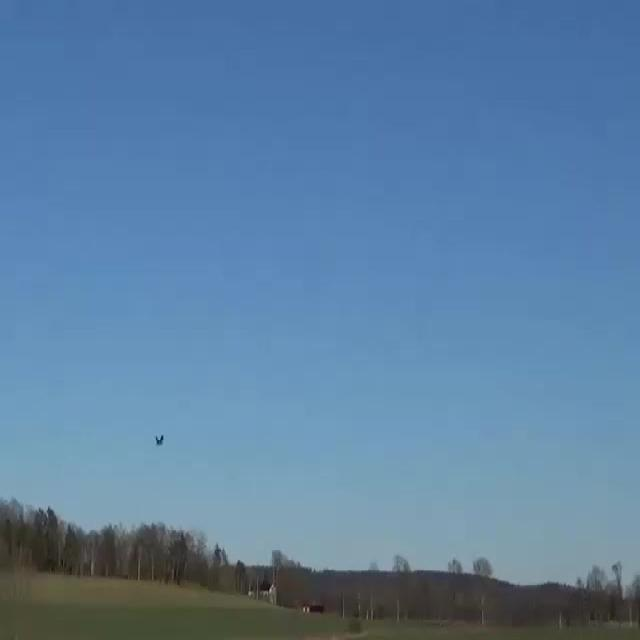bird: (146, 429, 170, 452)
